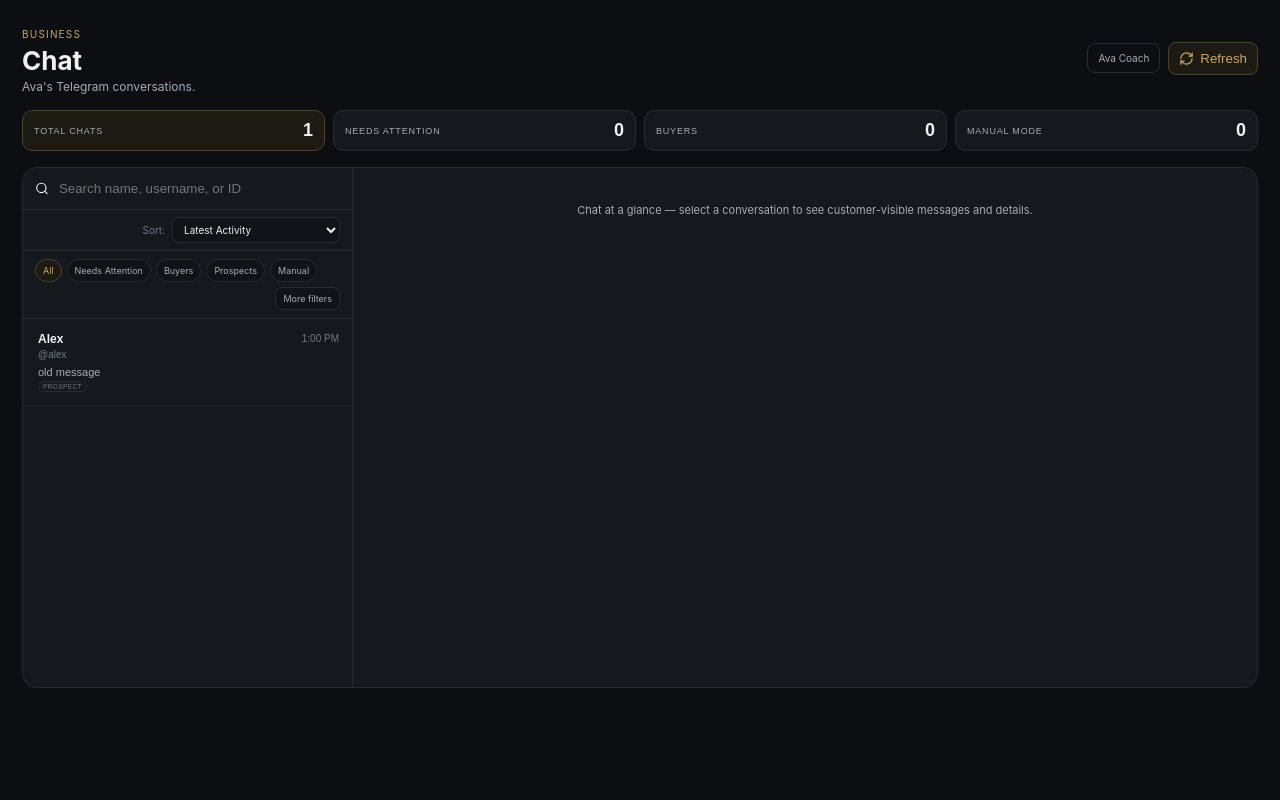
Test: Business Chat live refresh › silently refreshes the list, summary, and selected customer/Ava messages
Click the button "Alex @alex old message PROSPECT 1:00 PM".
click(69, 372)  # box [23,319,352,406]
Wait 3000 ms
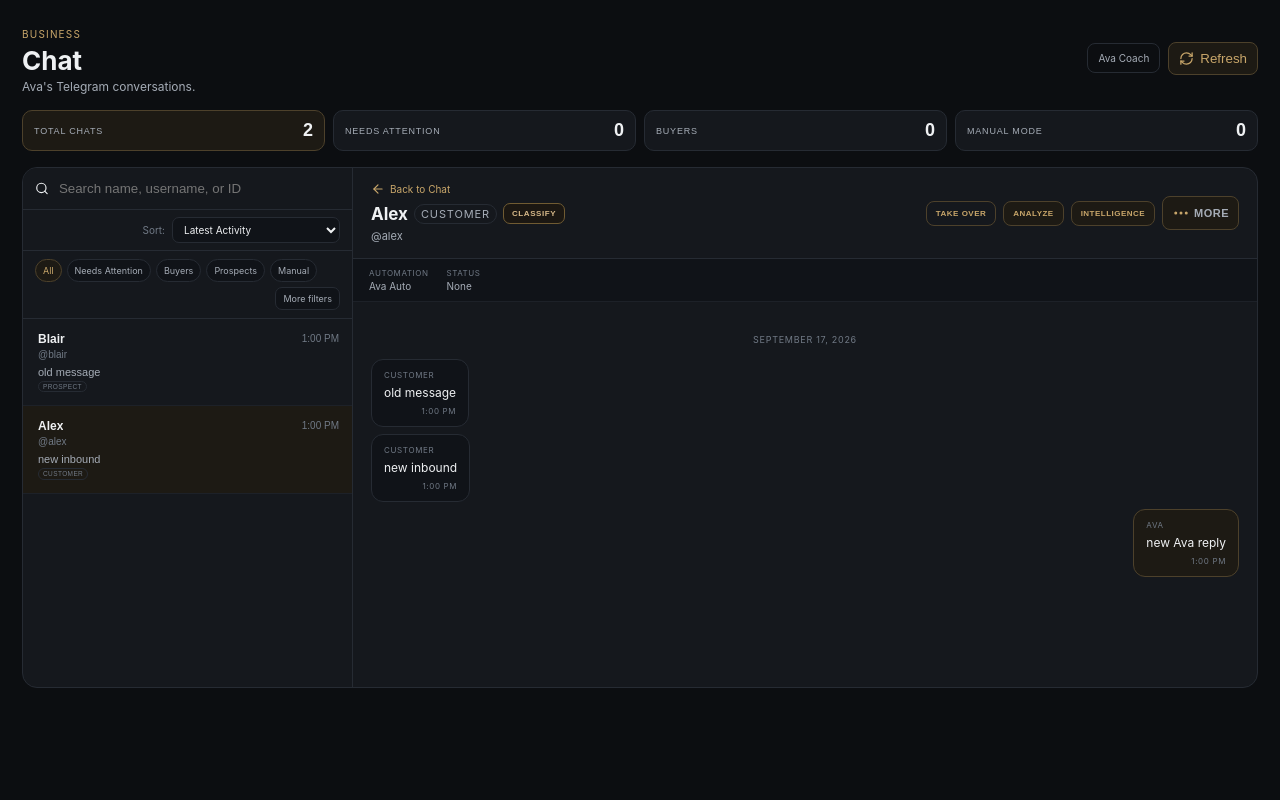
Now the text "new inbound" below "Sort:" is shown, box [38,454,100,466]
Now the text "new Ava reply" is shown, box [1146,534,1226,552]
Now the button "Blair @blair old message PROSPECT 1:00 PM" is shown, box [23,319,352,406]
